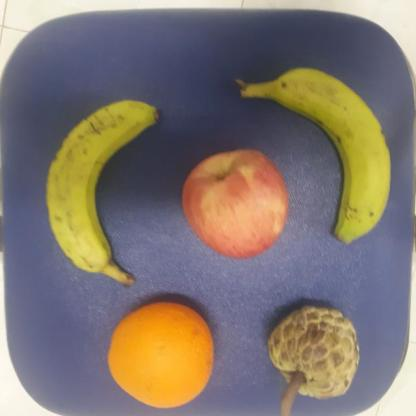annona: (264, 302, 362, 401)
apple: (178, 148, 288, 259)
banana: (236, 67, 393, 246), (45, 99, 160, 290)
orange: (107, 297, 216, 412)
